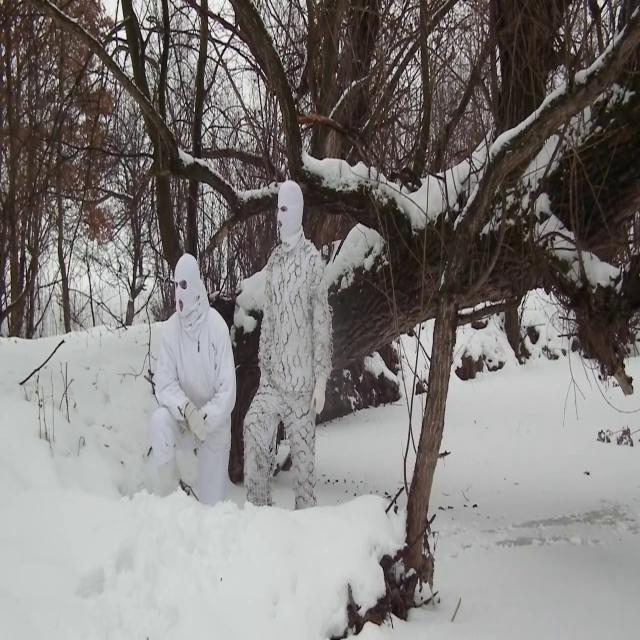Camouflage: (231, 181, 336, 508), (143, 247, 238, 509)
